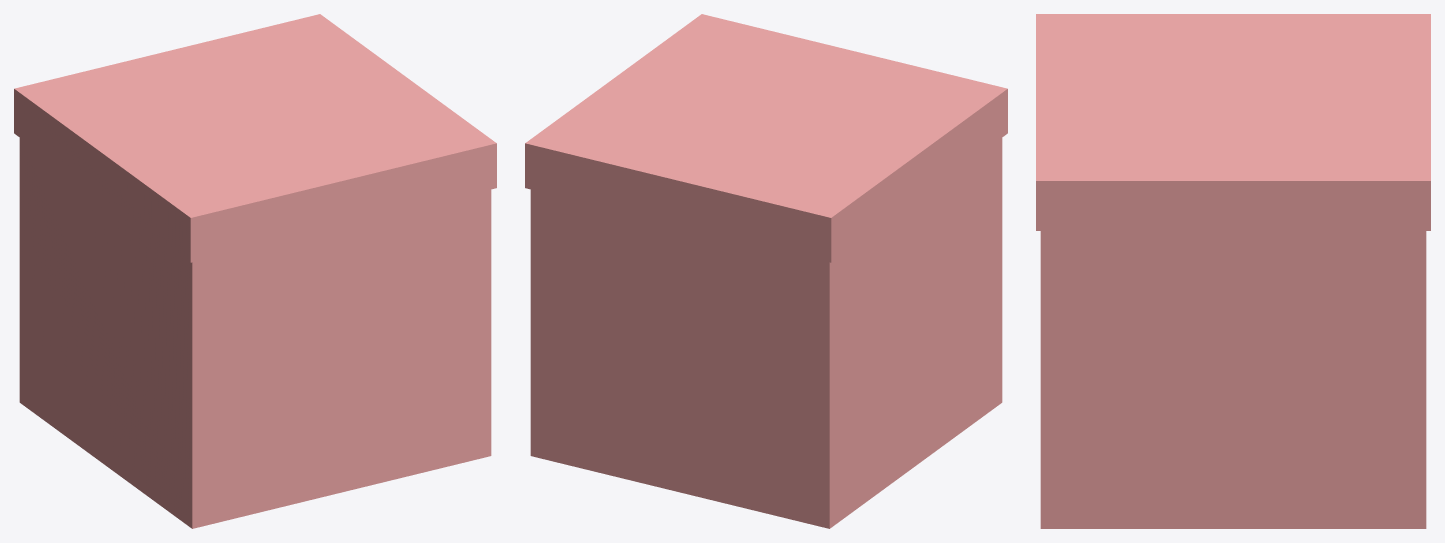
File: prebox08270334red.fbx
3 renders of one model, left to right at view 1: azimuth 30°, elevation 25°; view 2: azimuth 150°, elevation 25°; view 3: azimuth 270°, elevation 25°, orthographic. The views are drawn at different scales.
Parts seen in each view (by area): view 1: Cube; view 2: Cube; view 3: Cube.
Boxes of the visible parts, x1,y1,x2,y2 form: Cube: (14, 14, 496, 528); Cube: (525, 14, 1007, 528); Cube: (1036, 14, 1430, 528).
Size of the model in its own units: 2.05 by 2 by 2.05.
